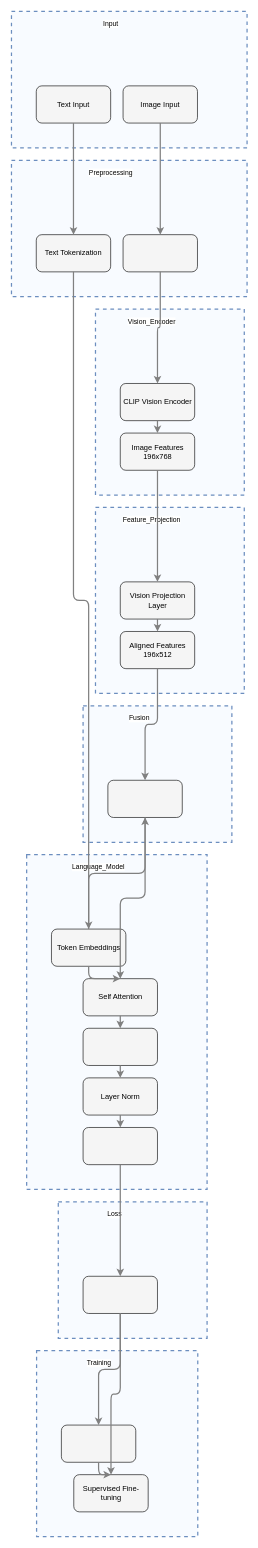
Image size: 258x1548. Some labels were removed from this diagram. The shapes that lost their labels are listed below. From the top down, each one's centre as x and y in pixels, then its label:
(x=159, y=253): Image Preprocessing
(x=144, y=798): Token Replacement
(x=119, y=1046): Feed Forward
(x=119, y=1146): Output Layer
(x=119, y=1294): Cross Entropy Loss
(x=98, y=1443): Pretraining Phase
